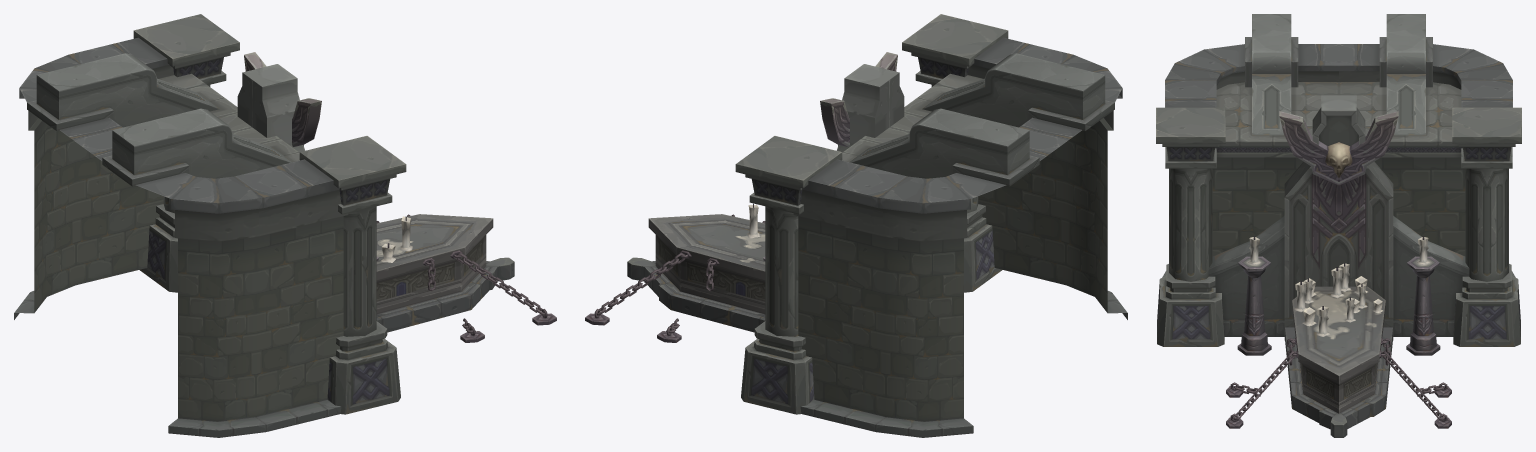
Rendered from sc_dungeon_moshenta_diaoxiang_001.FBX.
3 renders of one model, left to right at view 1: azimuth 30°, elevation 25°; view 2: azimuth 150°, elevation 25°; view 3: azimuth 270°, elevation 25°, orthographic. The views are drawn at different scales.
Parts seen in each view (by area): view 1: sc_dungeon_moshenta_diaoxiang_001; view 2: sc_dungeon_moshenta_diaoxiang_001; view 3: sc_dungeon_moshenta_diaoxiang_001.
Part boxes in pixels (bbox=[...]): sc_dungeon_moshenta_diaoxiang_001: bbox=[14, 14, 556, 437]; sc_dungeon_moshenta_diaoxiang_001: bbox=[585, 14, 1127, 437]; sc_dungeon_moshenta_diaoxiang_001: bbox=[1156, 14, 1521, 437].
Bounding box in the file's own units: 12.86 × 7.61 × 10.57.
1 material, 1 textured.
